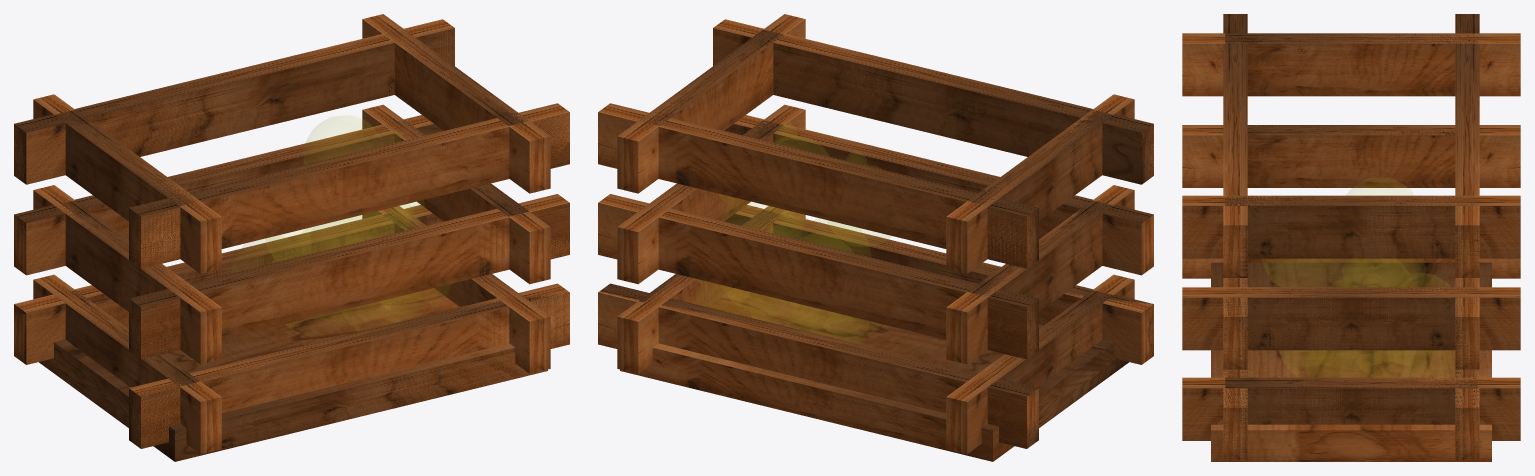
The model's file is caja.fbx.
3 views of the same model, side by side, from view 1: azimuth 30°, elevation 25°; view 2: azimuth 150°, elevation 25°; view 3: azimuth 270°, elevation 25° (orthographic).
Parts seen in each view (by area): view 1: Cube.000, light_bulb.003; view 2: Cube.000, light_bulb.003; view 3: Cube.000, light_bulb.003.
Part boxes in pixels (<box>): Cube.000: <box>14,14,569,461</box>; light_bulb.003: <box>265,132,421,320</box>; Cube.000: <box>598,14,1153,461</box>; light_bulb.003: <box>700,135,869,338</box>; Cube.000: <box>1182,14,1520,461</box>; light_bulb.003: <box>1305,259,1437,377</box>.
Size of the model in its own units: 711 by 393 by 481.
